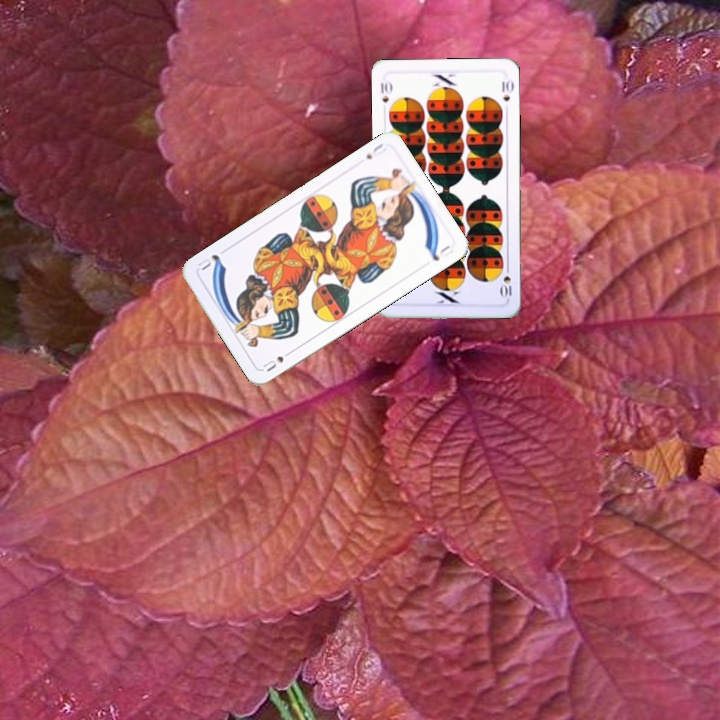S10: (498, 261, 514, 300), (376, 78, 394, 105)
SU: (259, 346, 296, 374), (362, 139, 388, 162)
